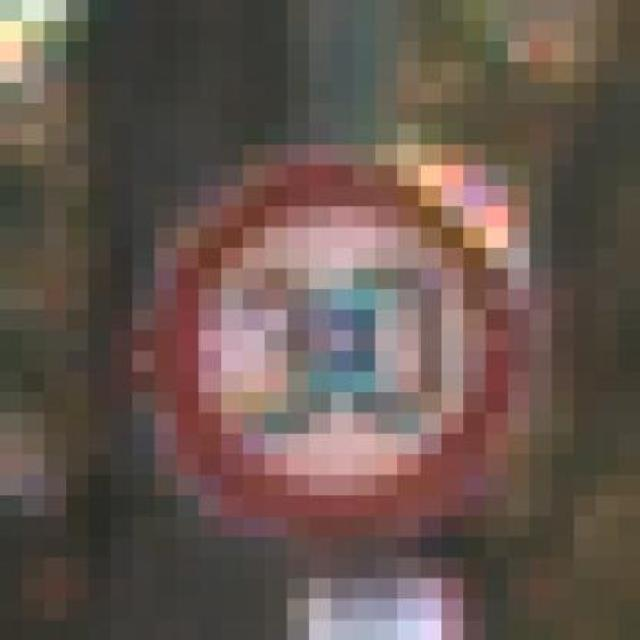forb_speed_over_30: (150, 161, 513, 547)
